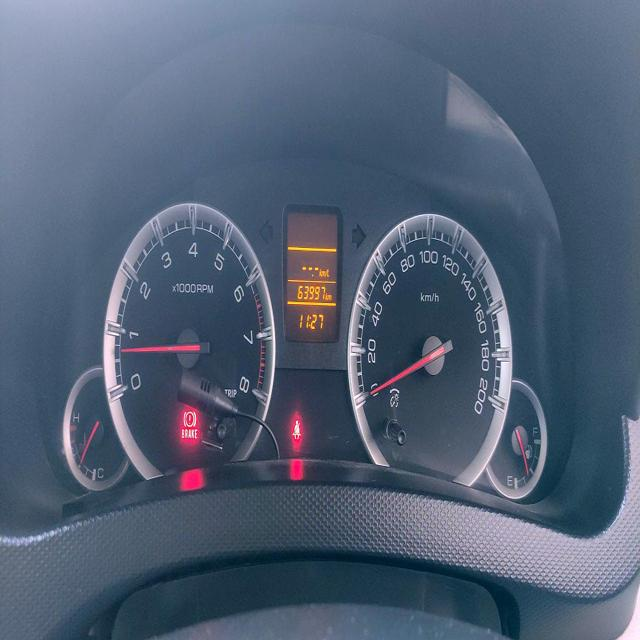odometer: (292, 281, 326, 304)
